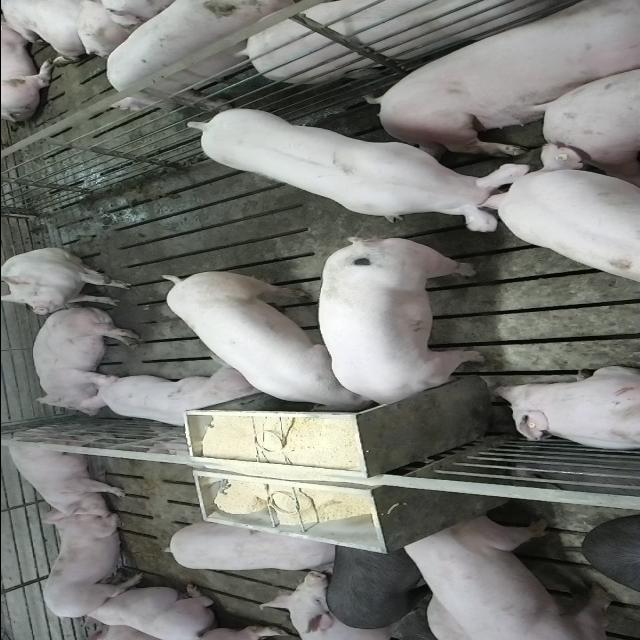Feeding: (160, 264, 368, 412), (314, 232, 484, 408)
Lateral_lying: (368, 5, 640, 158), (28, 305, 140, 417)
Sitting: (1, 248, 134, 316)
Standing: (185, 108, 532, 235), (232, 0, 630, 86), (395, 516, 624, 638), (100, 0, 310, 110), (487, 140, 640, 286), (3, 430, 131, 520), (163, 522, 337, 574), (321, 542, 426, 628)
Sternal_lying: (489, 366, 640, 453), (81, 366, 263, 431), (34, 519, 138, 618), (74, 584, 216, 639)
